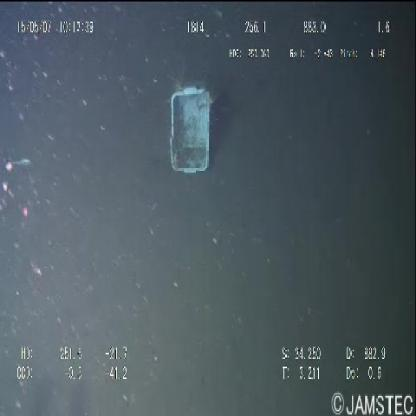Rác: (163, 72, 218, 186)
